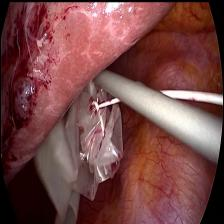Specimen Bag: (19, 76, 132, 223)
